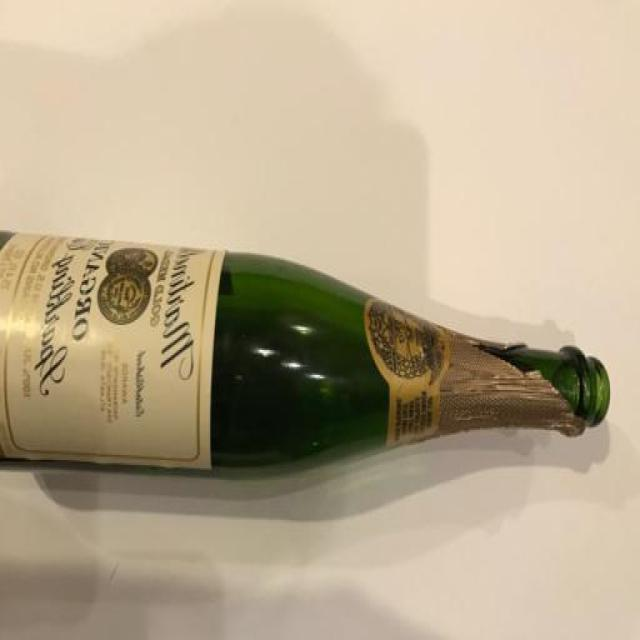glass: (0, 233, 610, 475)
